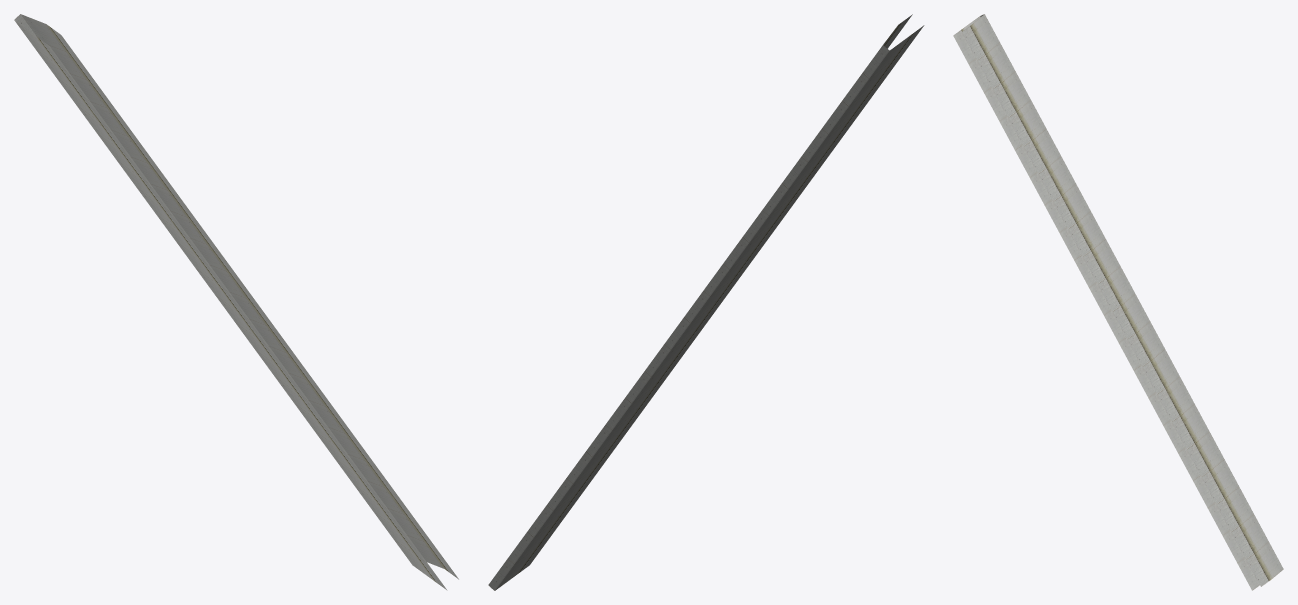
File: _1WALL_small01_26_SUB0_Scene.340.obj
3 views of the same model, side by side, from view 1: azimuth 30°, elevation 25°; view 2: azimuth 150°, elevation 25°; view 3: azimuth 330°, elevation 25° (orthographic). The views are drawn at different scales.
Parts seen in each view (by area): view 1: _1WALL_small01_26_SUB0_Scene.340; view 2: _1WALL_small01_26_SUB0_Scene.340; view 3: _1WALL_small01_26_SUB0_Scene.340.
Boxes of the visible parts, bbox=[...] form: _1WALL_small01_26_SUB0_Scene.340: bbox=[14, 14, 458, 590]; _1WALL_small01_26_SUB0_Scene.340: bbox=[488, 14, 924, 590]; _1WALL_small01_26_SUB0_Scene.340: bbox=[953, 14, 1283, 590].
Size of the model in its own units: 11.31 by 17.14 by 1.7.
